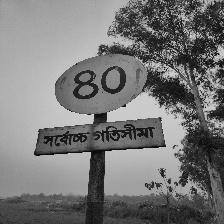Speed-limit: (35, 53, 162, 156)
